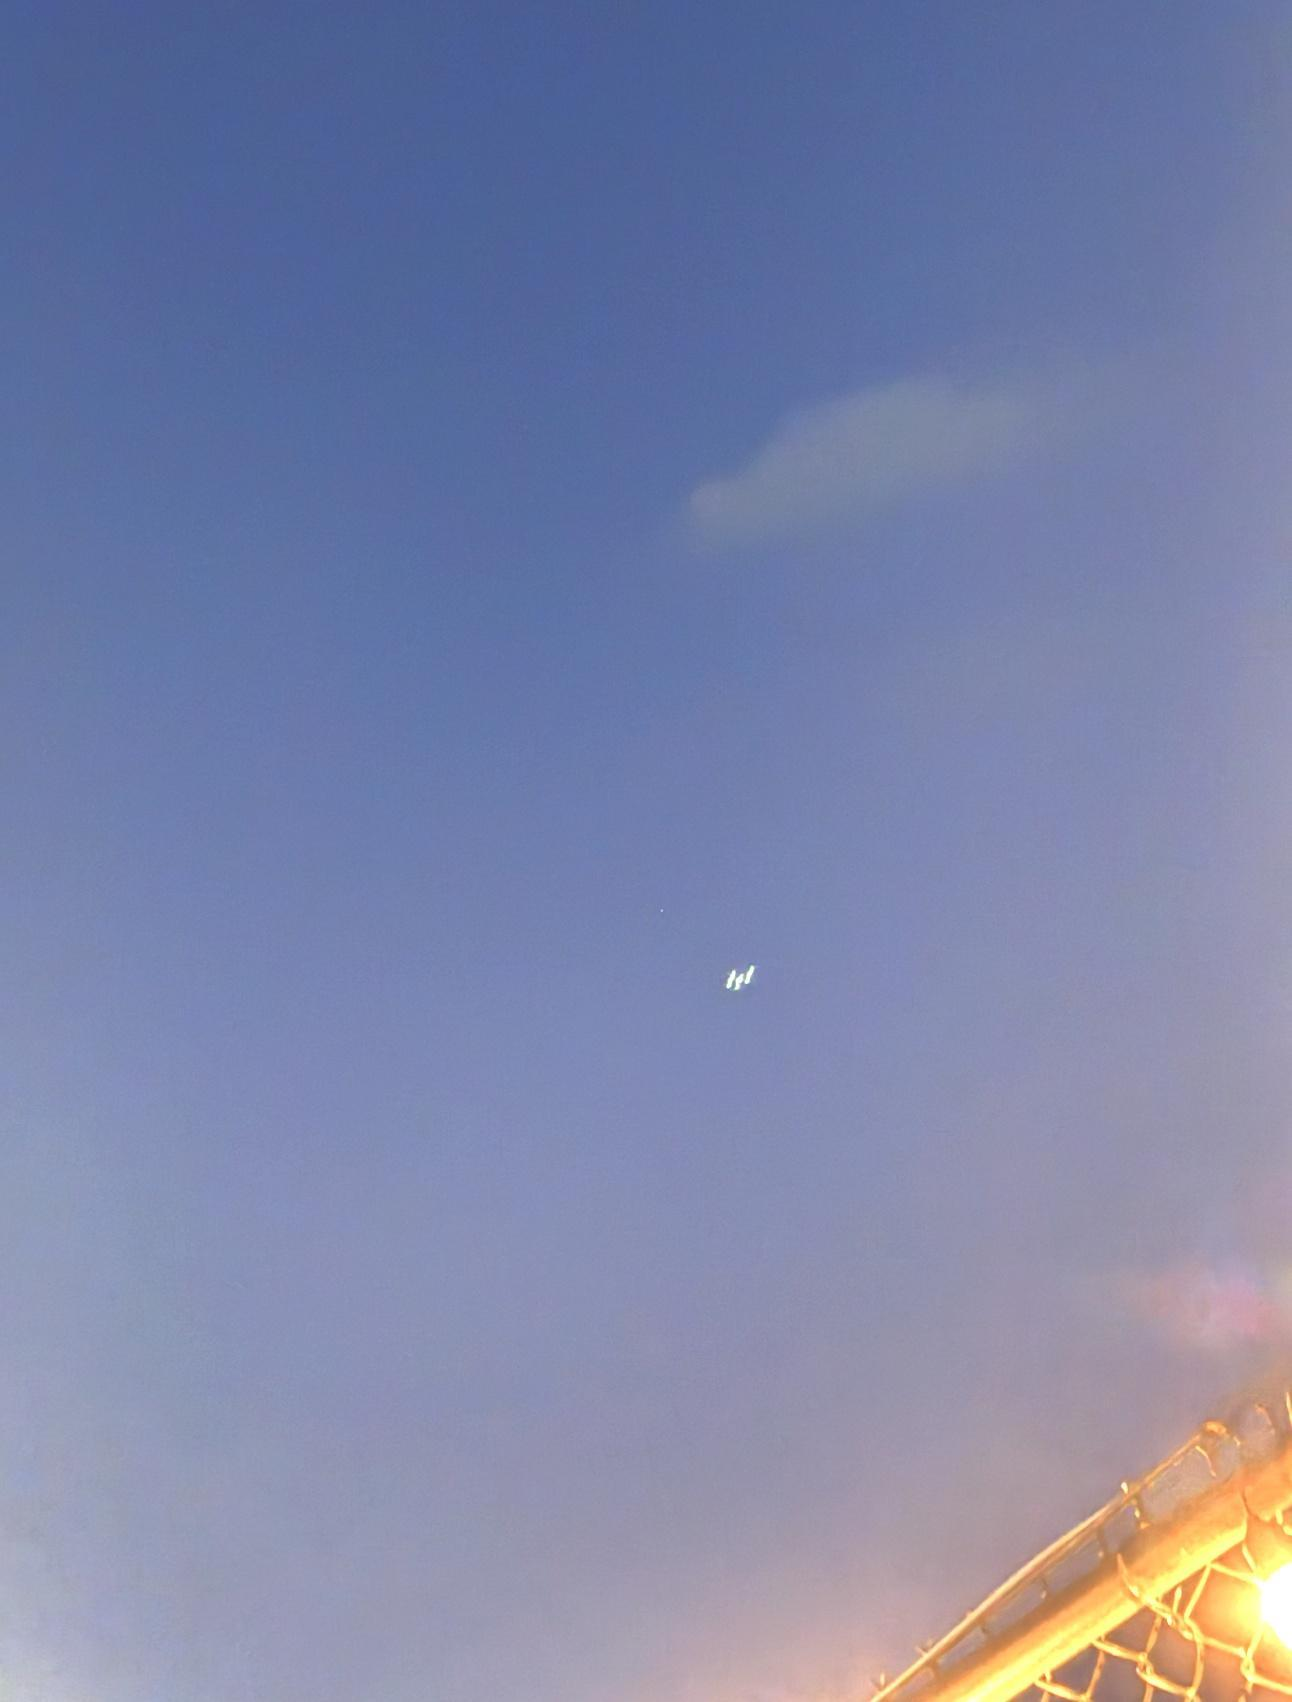Plane: (717, 941, 759, 1019)
